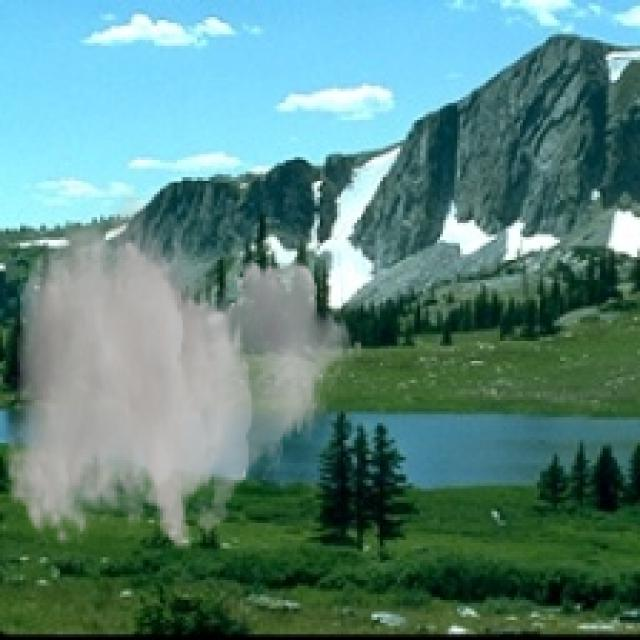smoke: (6, 180, 363, 551)
